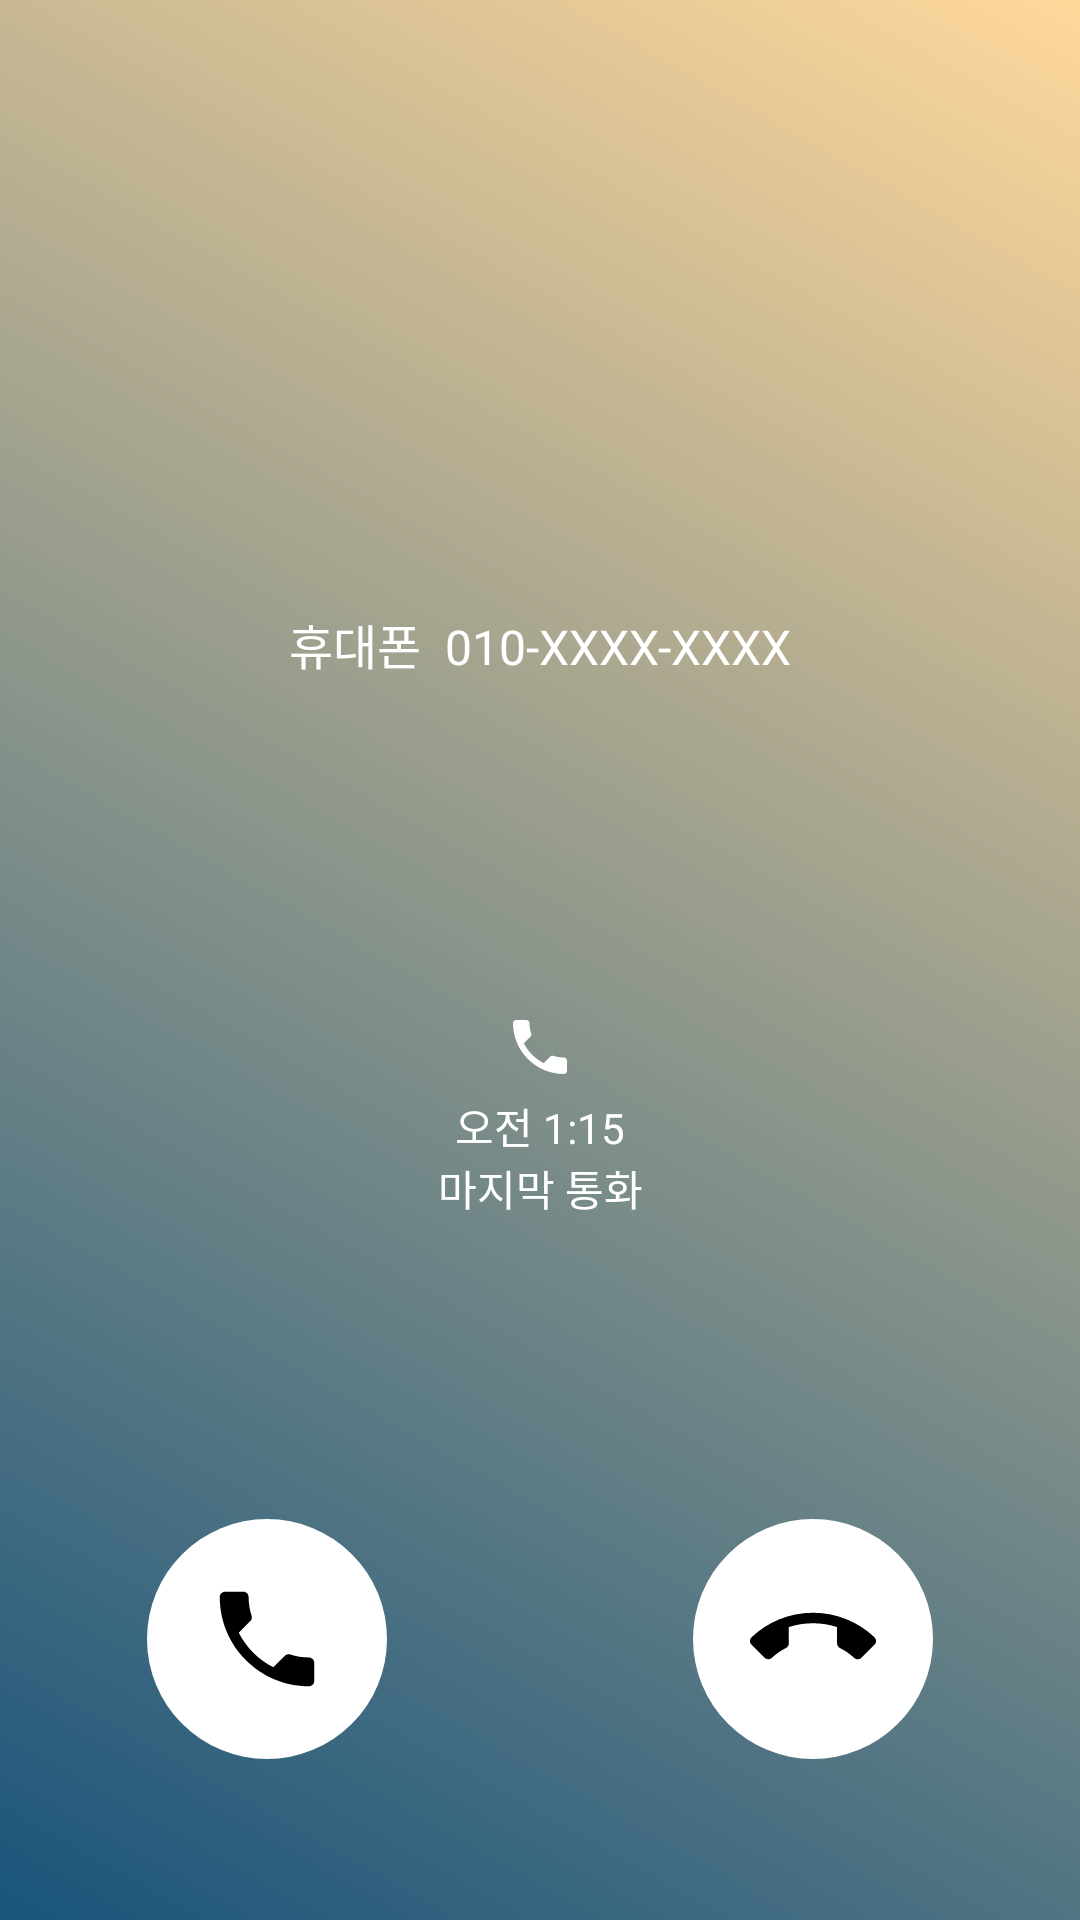

Named icons in this screenshot (1080×1920) and their bounding boxes, (left=x1, top=y1, right=x2, bottom=y2):
call: (left=513, top=1020, right=567, bottom=1074), (left=219, top=1591, right=315, bottom=1687)
call end: (left=750, top=1612, right=876, bottom=1660)
